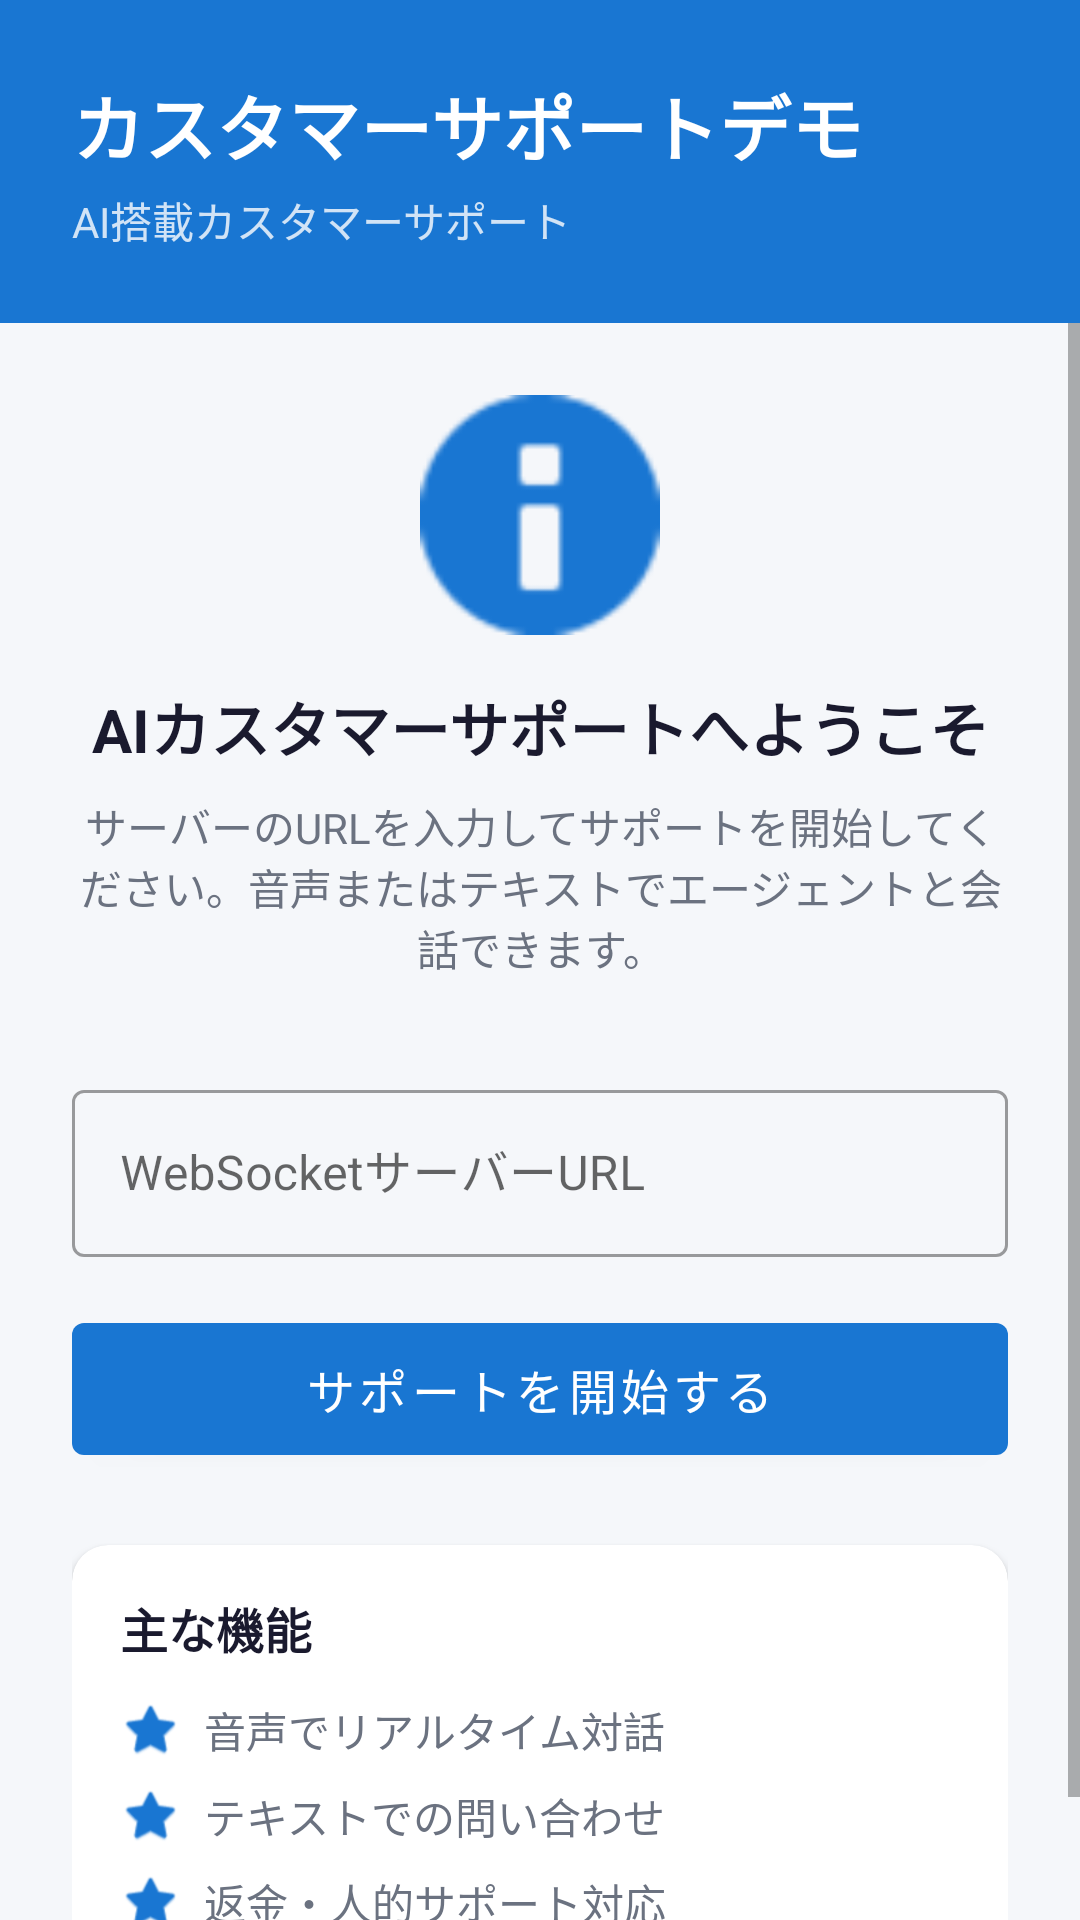

Icon bounding boxes for this 1080x1920 phone screenshot, format (x1, y1, x2, y2):
info: (420, 395, 660, 635)
